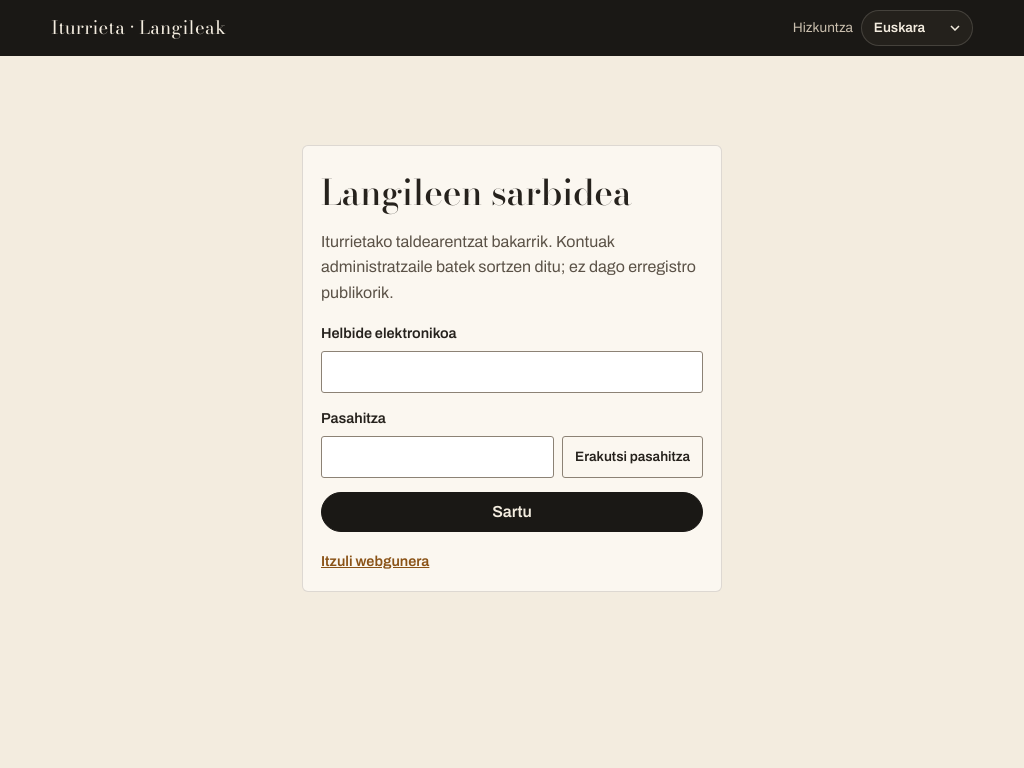
Test: staff workflow in eu › signs in: no sign-up option, bad credentials reported
Expected: the heading "Langileen sarbidea" is shown, [321, 165, 632, 219]
Type " staff@iturrieta.test " into the field labelled "Helbide elektronikoa" at (512, 372), box [321, 351, 703, 393]
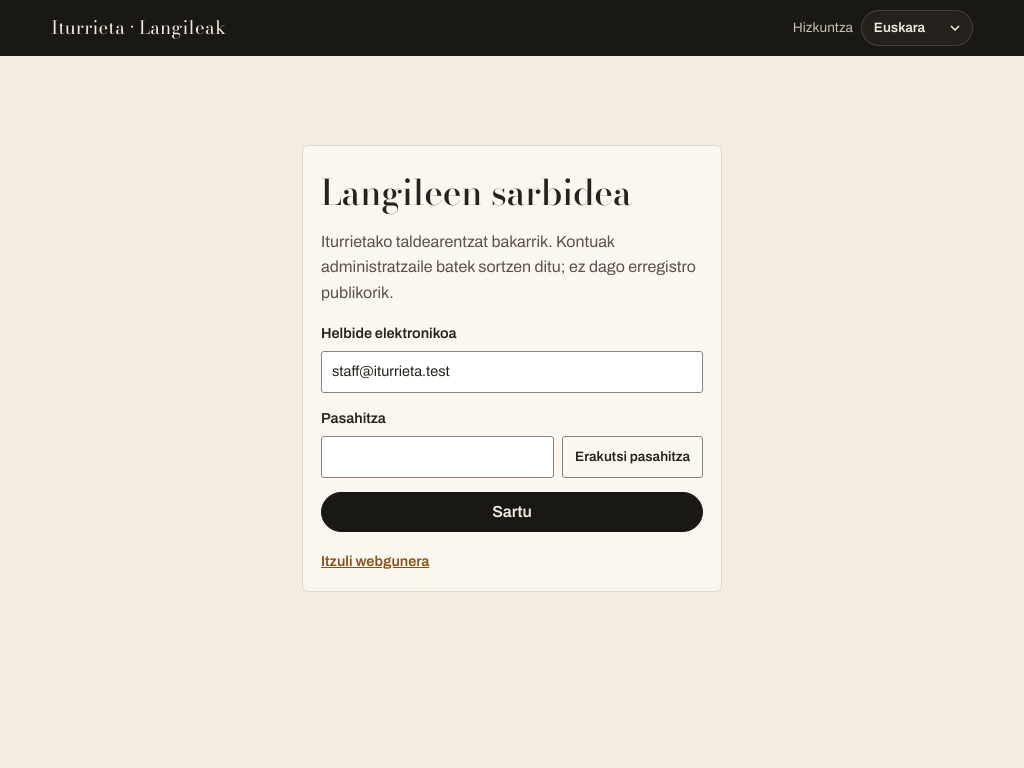
Type "wrong" into the password field labelled "Pasahitza" at (438, 457), box [321, 436, 554, 478]
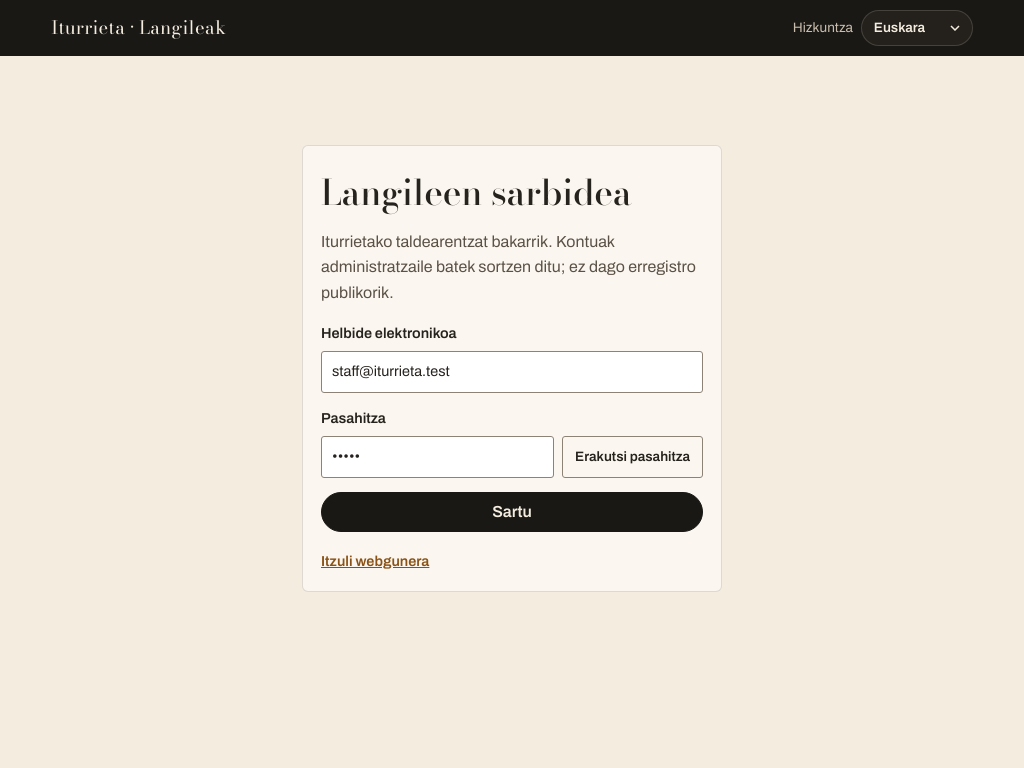
Click the button "Sartu" at (512, 512), box [321, 492, 703, 532]
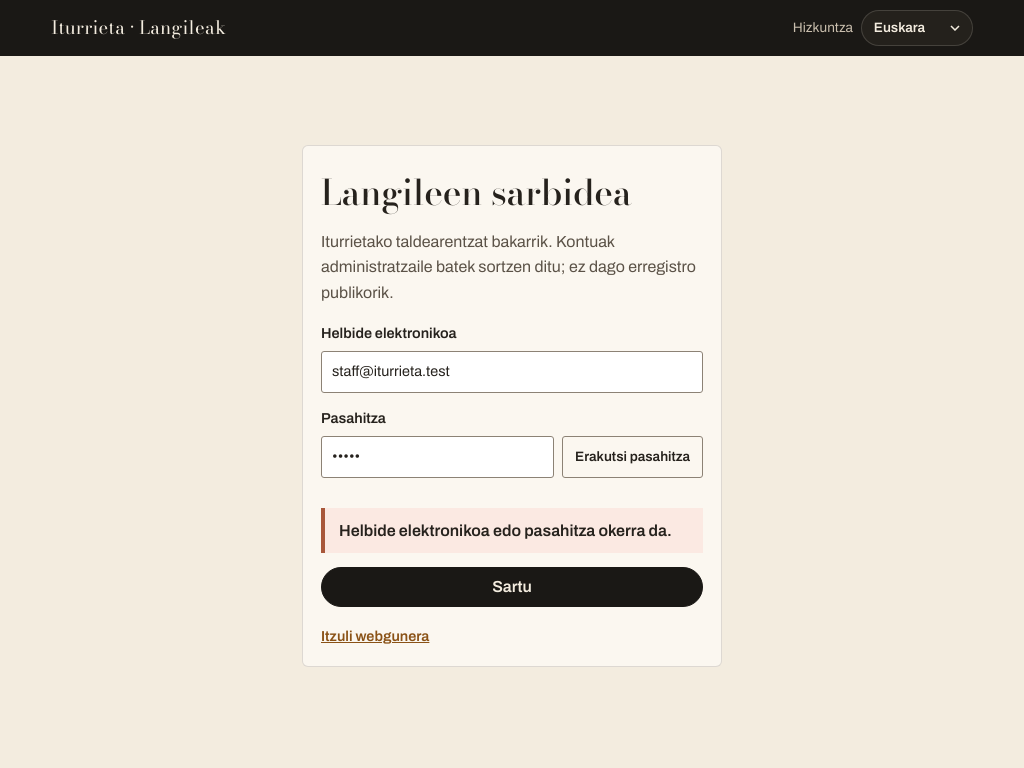
Now the message reads "Helbide elektronikoa edo pasahitza okerra da.", box [339, 522, 672, 539]
